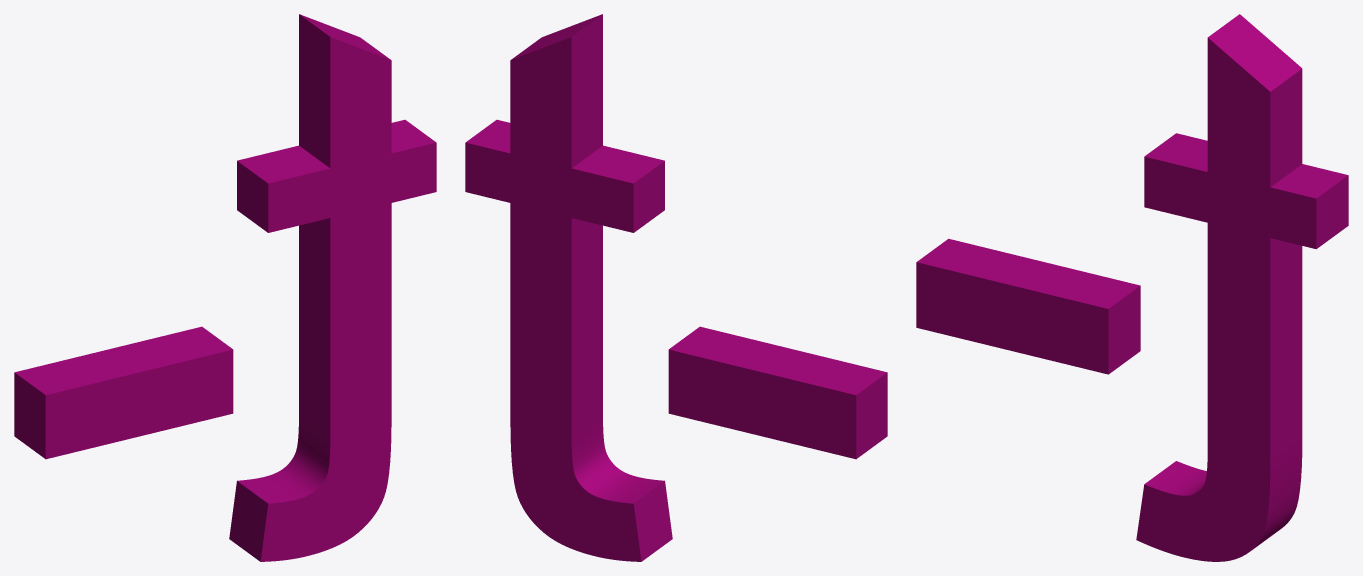
Rendered from TimeSubtract.FBX.
The picture shows the model from 3 angles, left to right: view 1: azimuth 30°, elevation 25°; view 2: azimuth 150°, elevation 25°; view 3: azimuth 330°, elevation 25°; orthographic projection. The views are drawn at different scales.
Visible parts, largest first — view 1: Text001; view 2: Text001; view 3: Text001.
Part boxes in pixels (box(x1,y1,x2,y2)): Text001: box(14, 14, 436, 561); Text001: box(465, 14, 887, 561); Text001: box(916, 14, 1348, 561).
Bounding box in the file's own units: 50.4 × 63.31 × 7.
